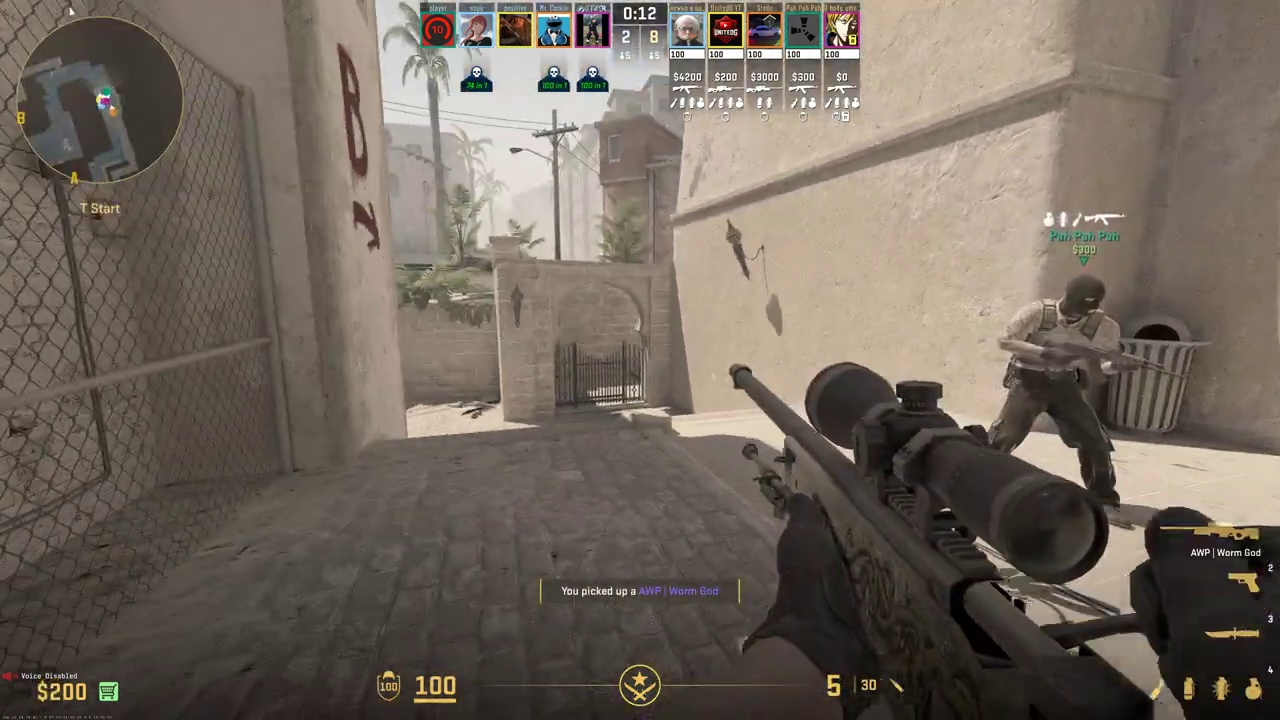Terrorist: (998, 277, 1123, 497)
